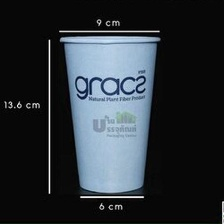paper_cup: (53, 31, 165, 196)
